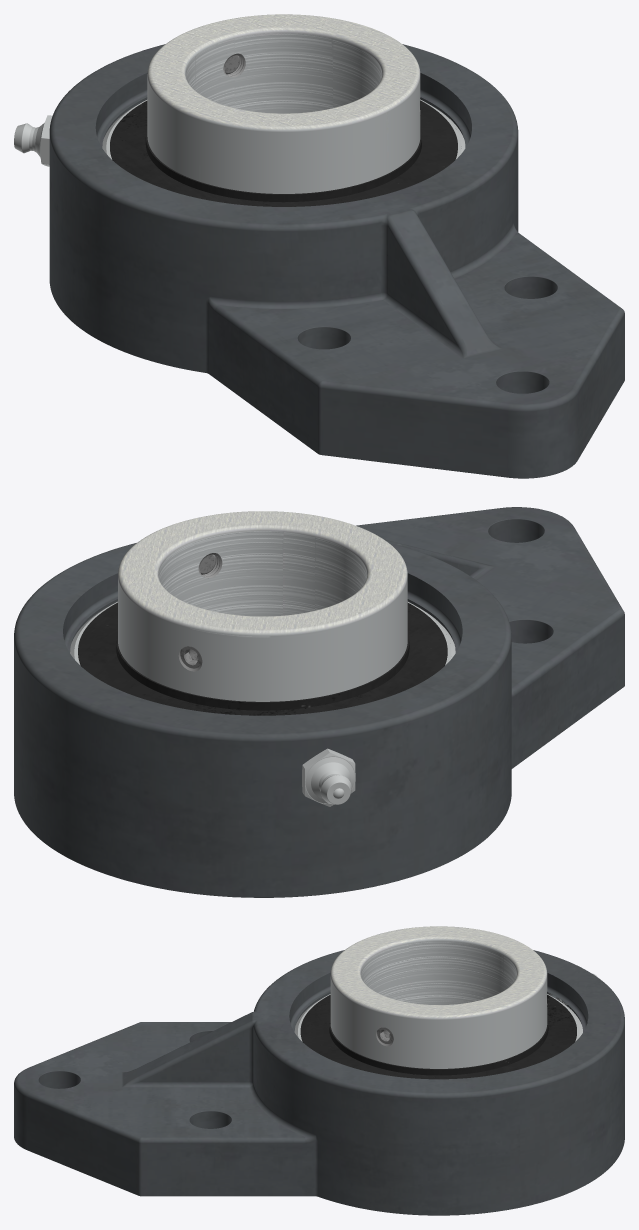
3 renders of one model, top to bottom at view 1: azimuth 30°, elevation 25°; view 2: azimuth 150°, elevation 25°; view 3: azimuth 270°, elevation 25°, orthographic. The views are drawn at different scales.
Visible parts, largest first — view 1: EdgeFillet.013; view 2: EdgeFillet.013; view 3: EdgeFillet.013.
Boxes of the visible parts, box(x1,y1,x2,y2) form: EdgeFillet.013: box(14, 14, 624, 478); EdgeFillet.013: box(14, 507, 624, 897); EdgeFillet.013: box(14, 926, 624, 1215).
Size of the model in its own units: 0.106 by 0.0522 by 0.174.
13 materials, 8 textured.
